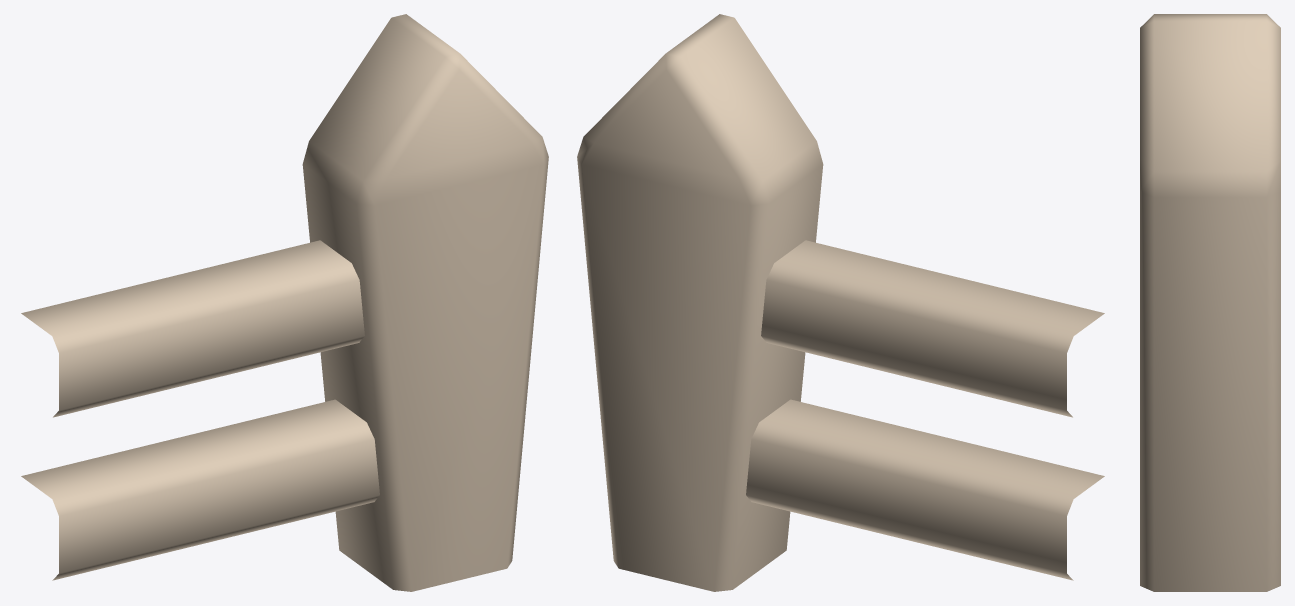
Rendered from fence_open.glb.
3 views of the same model, side by side, from view 1: azimuth 30°, elevation 25°; view 2: azimuth 150°, elevation 25°; view 3: azimuth 270°, elevation 25° (orthographic). The views are drawn at different scales.
Parts seen in each view (by area): view 1: fence_open; view 2: fence_open; view 3: fence_open.
Part boxes in pixels (x1=…): fence_open: x1=21, y1=14, x2=548, y2=591; fence_open: x1=577, y1=14, x2=1104, y2=591; fence_open: x1=1140, y1=14, x2=1280, y2=591.
Bounding box in the file's own units: 1.25 × 1.28 × 0.3.
